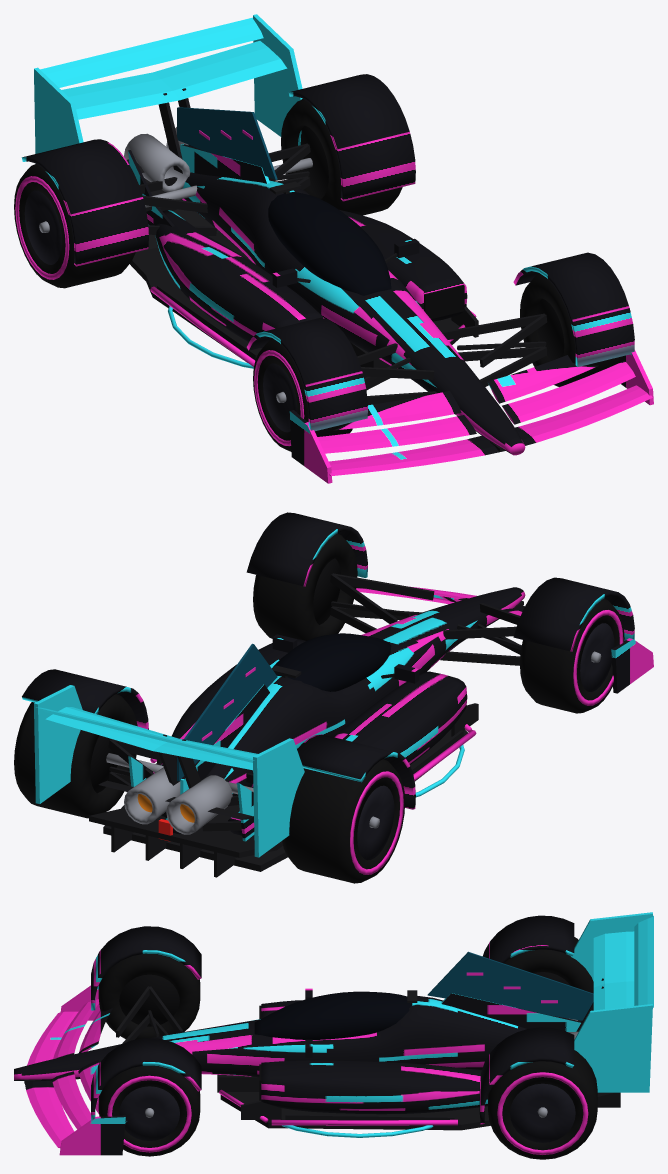
File: city_c.fbx
The picture shows the model from 3 angles, top to bottom: view 1: azimuth 30°, elevation 25°; view 2: azimuth 150°, elevation 25°; view 3: azimuth 270°, elevation 25°; orthographic projection. The views are drawn at different scales.
Visible parts, largest first — view 1: Body, Trim, Glass, Wheel_RL, Wheel_RR, Wheel_FL, Wheel_FR, Glow; view 2: Body, Trim, Wheel_RL, Glass, Wheel_FL, Wheel_FR, Wheel_RR, Glow; view 3: Body, Glass, Wheel_RR, Wheel_FR, Trim, Wheel_FL, Glow, Wheel_RL.
Part boxes in pixels (box(x1,y1,x2,y2)): Body: box(21, 14, 653, 483); Trim: box(124, 88, 547, 451); Glass: box(177, 107, 391, 295); Wheel_RL: box(14, 164, 135, 288); Wheel_RR: box(281, 99, 402, 215); Wheel_FL: box(253, 339, 352, 451); Wheel_FR: box(520, 274, 622, 386); Glow: box(150, 130, 476, 368); Body: box(22, 512, 653, 857); Trim: box(89, 573, 523, 877); Wheel_RL: box(282, 759, 405, 883); Glass: box(177, 633, 391, 781); Wheel_FL: box(520, 598, 624, 713); Wheel_FR: box(253, 533, 357, 640); Wheel_RR: box(14, 694, 137, 818); Glow: box(137, 667, 476, 841); Body: box(14, 912, 653, 1155); Glass: box(254, 951, 593, 1039); Wheel_RR: box(488, 1050, 597, 1159); Wheel_FR: box(98, 1065, 200, 1156); Trim: box(24, 978, 620, 1130); Wheel_FL: box(98, 953, 200, 1039); Glow: box(219, 972, 557, 1137); Wheel_RL: box(503, 937, 593, 993).
Bounding box in the file's own units: 9.91 × 4.6 × 18.88.
5 materials, 1 textured.
